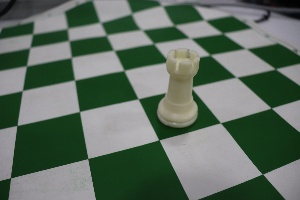white_rook: (150, 34, 218, 141)
